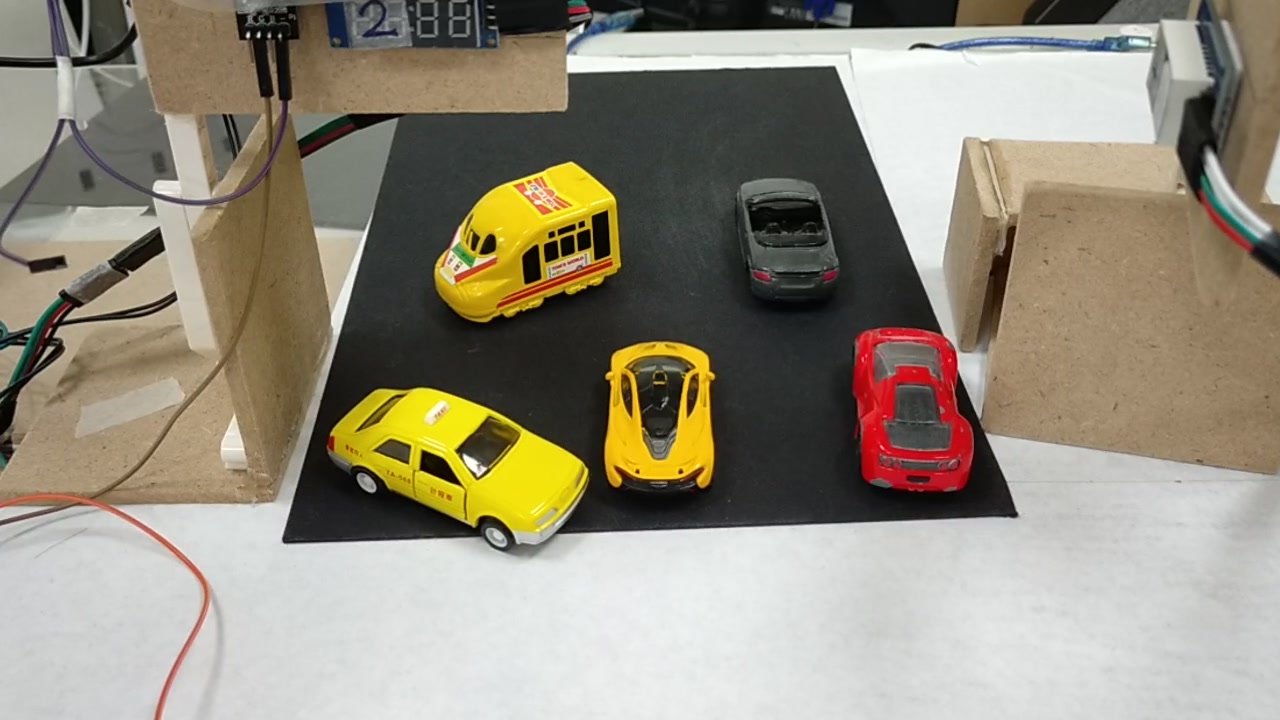car: (324, 378, 584, 553), (855, 324, 971, 493), (610, 348, 704, 489), (736, 181, 832, 300)
